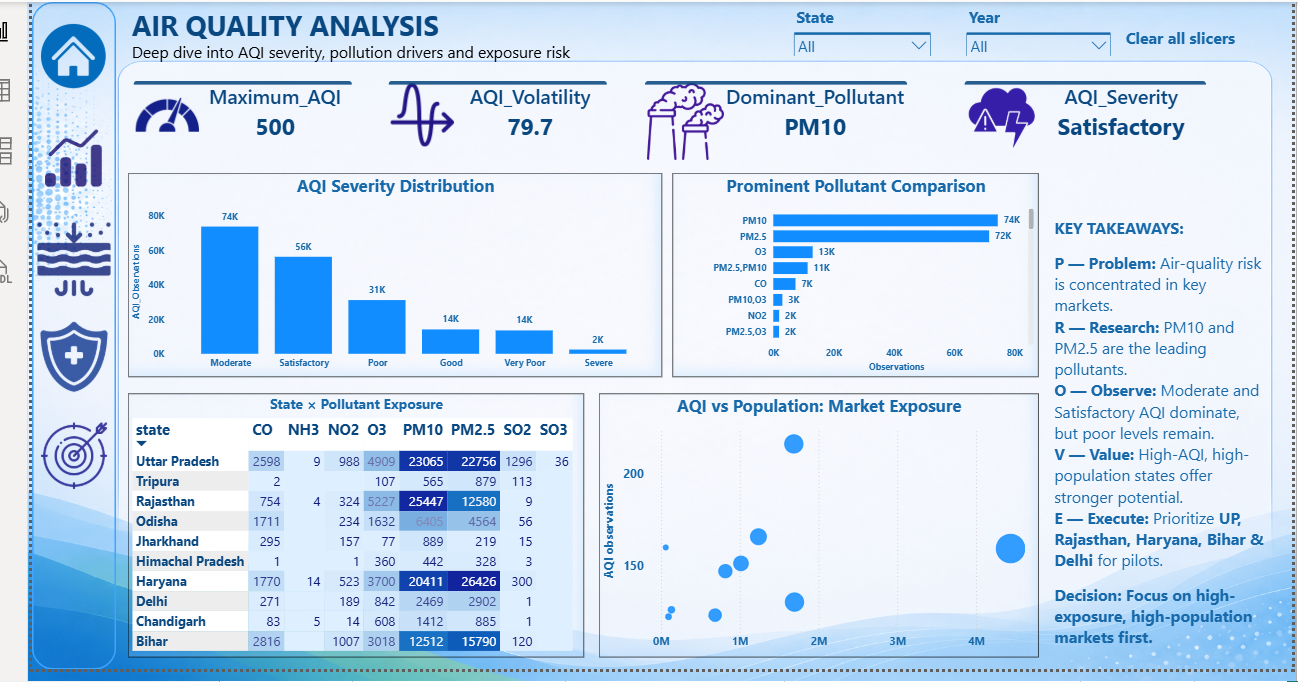

This screenshot's page, from the dashboard's own definition file:
{"tool":"powerbi","page":{"name":"Air Quality Analysis","canvas":[1700,900],"ordinal":2},"visuals":[{"type":"shape","box":[0,0,113.3,900.7],"z":0},{"type":"image","box":[12.1,20.2,87,105.2],"z":1000},{"type":"image","box":[12.1,158.9,87,105.2],"z":2000},{"type":"image","box":[0,297.5,113.3,99.2],"z":3000},{"type":"image","box":[0,430.1,113.3,99.2],"z":4000},{"type":"image","box":[0,690.2,113.3,99.2],"z":5000},{"type":"actionButton","box":[1465.4,20.2,172,50.6],"z":6000},{"type":"slicer","fields":{"Values":["Dim_Month.Year"]},"box":[1250.9,0,214.5,72.9],"z":7000},{"type":"slicer","fields":{"Values":["Dim_State.state"]},"box":[1018.1,0,204.4,72.9],"z":8000},{"type":"textbox","box":[129.5,0,485.8,70.8],"z":9000},{"type":"textbox","box":[129.5,46.6,817.7,40.5],"z":10000},{"type":"cardVisual","fields":{"Data":["_Measures.Maximum_AQI"]},"box":[129.5,99.2,309.7,131.6],"z":11000},{"type":"cardVisual","fields":{"Data":["_Measures.AQI_Volatility"]},"box":[473.6,99.2,309.7,131.6],"z":12000},{"type":"cardVisual","fields":{"Data":["_Measures.Dominant_Pollutant"]},"box":[819.7,99.2,368.4,131.6],"z":13000},{"type":"cardVisual","fields":{"Data":["_Measures.AQI_Severity"]},"box":[1250.9,99.2,340,131.6],"z":14000},{"type":"clusteredColumnChart","title":"AQI Severity Distribution","fields":{"Category":["fact_AQI.air_quality_status"],"Y":["CountNonNull(fact_AQI.air_quality_status)"]},"box":[129.5,230.7,720.6,275.3],"z":15000},{"type":"clusteredBarChart","title":"Prominent Pollutant Comparison","fields":{"Category":["fact_AQI.prominent_pollutants"],"Y":["CountNonNull(fact_AQI.air_quality_status)"]},"box":[864.3,230.7,493.9,275.3],"z":16000},{"type":"pivotTable","title":"State × Pollutant Exposure","fields":{"Rows":["Dim_State.state"],"Columns":["fact_AQI_Pollutant.pollutant"],"Values":["_Measures.Pollutant Records"]},"box":[129.5,528.3,615.3,356.2],"z":17000},{"type":"scatterChart","title":"AQI vs Population: Market Exposure","fields":{"X":["_Measures.Total Population"],"Y":["_Measures.Average_AQI"],"Size":["_Measures.Total Population"],"Category":["Dim_State.state"]},"box":[765.1,528.3,593,356.2],"z":18000},{"type":"textbox","box":[1374.3,230.7,295.5,653.8],"z":19000}]}

Visuals, with their boxes in screenshot pixels (x1, y1, x2, y2), scaled from the page's 1700x900 canvas onto the 1298x682 screenshot:
shape: (0, 0, 87, 681)
image: (9, 15, 76, 95)
image: (9, 120, 76, 200)
image: (0, 225, 87, 301)
image: (0, 326, 87, 401)
image: (0, 523, 87, 598)
actionButton: (1119, 15, 1250, 54)
slicer - Dim_Month.Year: (955, 0, 1119, 55)
slicer - Dim_State.state: (777, 0, 933, 55)
textbox: (99, 0, 470, 54)
textbox: (99, 35, 723, 66)
cardVisual - _Measures.Maximum_AQI: (99, 75, 335, 175)
cardVisual - _Measures.AQI_Volatility: (362, 75, 598, 175)
cardVisual - _Measures.Dominant_Pollutant: (626, 75, 907, 175)
cardVisual - _Measures.AQI_Severity: (955, 75, 1215, 175)
"AQI Severity Distribution" clusteredColumnChart: (99, 175, 649, 383)
"Prominent Pollutant Comparison" clusteredBarChart: (660, 175, 1037, 383)
"State × Pollutant Exposure" pivotTable: (99, 400, 569, 670)
"AQI vs Population: Market Exposure" scatterChart: (584, 400, 1037, 670)
textbox: (1049, 175, 1275, 670)
